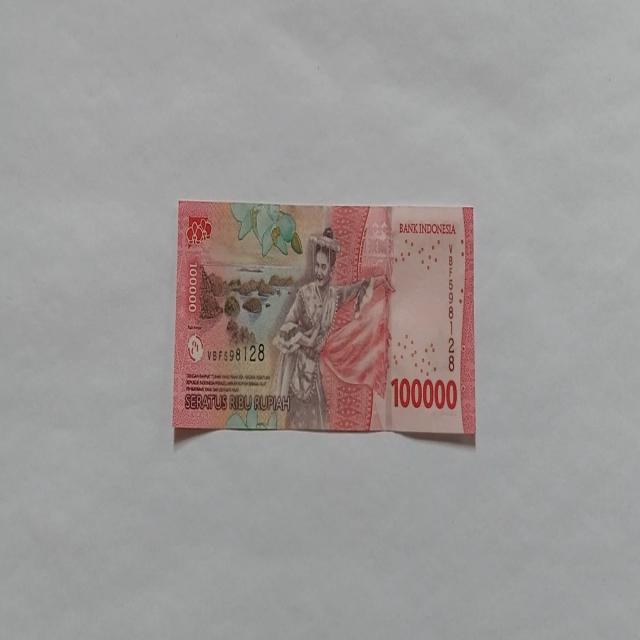seratus ribu rupiah: (172, 200, 476, 439), (271, 225, 375, 430)
